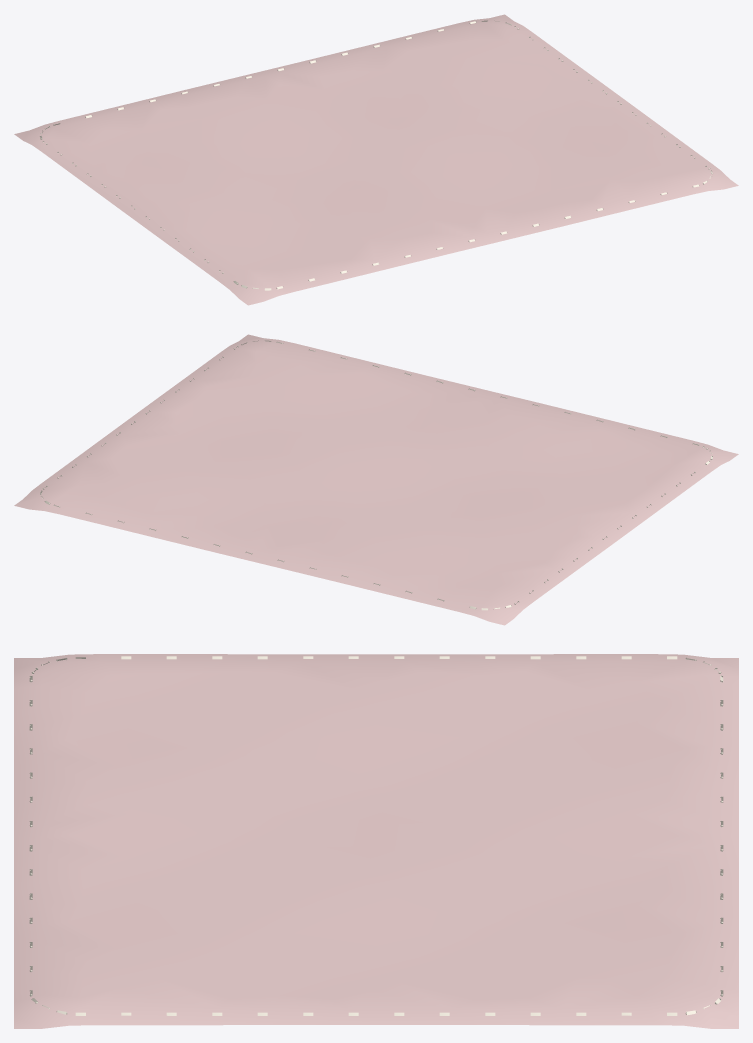
File: patchwork_rug.glb
3 renders of one model, top to bottom at view 1: azimuth 30°, elevation 25°; view 2: azimuth 150°, elevation 25°; view 3: azimuth 270°, elevation 25°, orthographic. The views are drawn at different scales.
Visible parts, largest first — view 1: RugBody; view 2: RugBody; view 3: RugBody.
Boxes of the visible parts, left/top/right/bottom form: RugBody: left=14, top=14, right=738, bottom=305; RugBody: left=14, top=334, right=738, bottom=625; RugBody: left=14, top=654, right=738, bottom=1028.
Bounding box in the file's own units: 9.2 × 0.1066 × 7.6.
